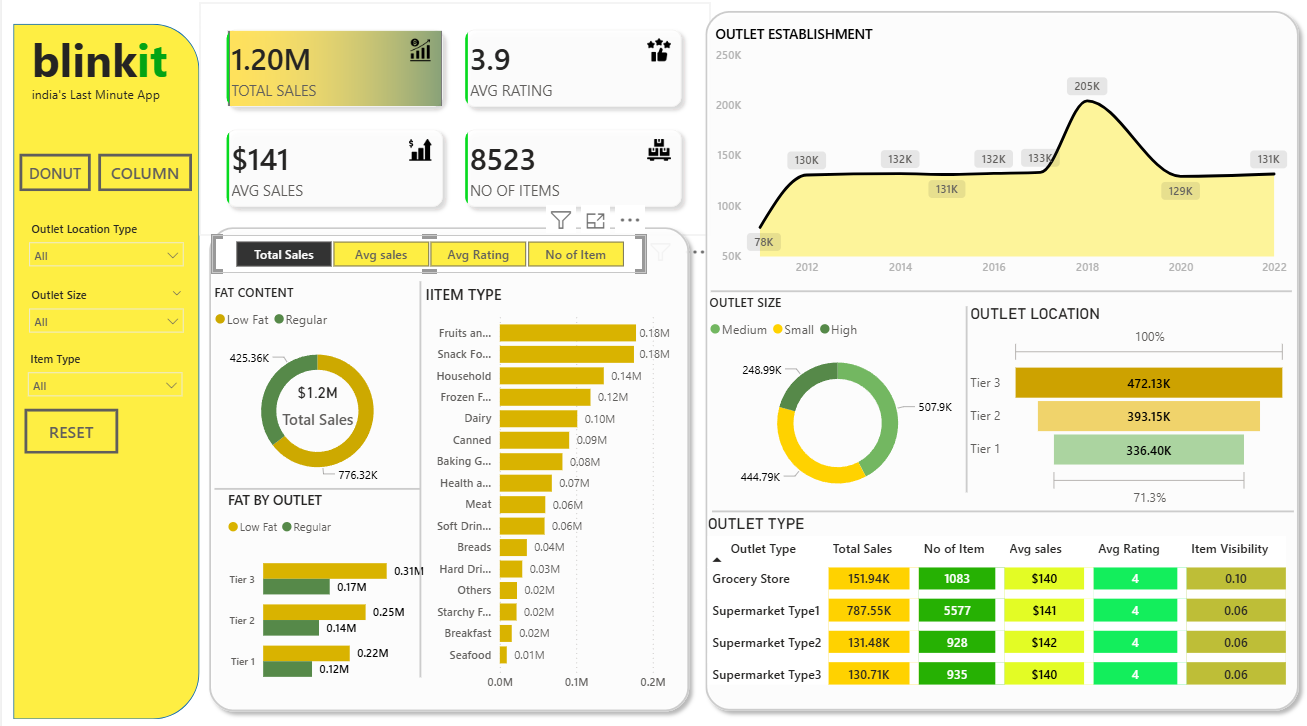

This screenshot's page, from the dashboard's own definition file:
{"tool":"powerbi","page":{"name":"Page 1","canvas":[1400,800],"ordinal":0},"visuals":[{"type":"shape","box":[12,36,199.6,745.9],"z":0},{"type":"textbox","box":[27,36,171.1,81],"z":1000},{"type":"textbox","box":[27,97.6,154.6,40.5],"z":2000},{"type":"cardVisual","fields":{"Data":["BlinkIT Grocery Data.Total Sales","BlinkIT Grocery Data.Avg Rating","BlinkIT Grocery Data.Avg sales","BlinkIT Grocery Data.No of Item"]},"box":[211.6,13.5,547.8,249.1],"z":3000},{"type":"shape","box":[213.1,244.6,532.8,537.3],"z":4000},{"type":"donutChart","title":" FAT CONTENT","fields":{"Y":["BlinkIT Grocery Data.Total Sales"],"Category":["BlinkIT Grocery Data.Item Fat Content"]},"box":[228.1,315.2,220.6,220.6],"z":5000},{"type":"slicer","fields":{"Values":["Metrics.Metrics"]},"box":[225.1,262.7,465.3,40.5],"z":6000},{"type":"card","fields":{"Values":["BlinkIT Grocery Data.Total Sales"]},"box":[292.7,411.2,93.1,63],"z":7000},{"type":"clusteredBarChart","title":"FAT BY OUTLET","fields":{"Y":["BlinkIT Grocery Data.Total Sales"],"Category":["BlinkIT Grocery Data.Outlet Location Type"],"Series":["BlinkIT Grocery Data.Item Fat Content"]},"box":[237.1,535.8,220.6,225.1],"z":8000},{"type":"shape","box":[228.1,514.8,220.6,40.5],"z":9000},{"type":"shape","box":[439.8,312.2,18,424.7],"z":10000},{"type":"barChart","title":"IITEM TYPE","fields":{"Y":["BlinkIT Grocery Data.Total Sales"],"Category":["BlinkIT Grocery Data.Item Type"]},"box":[448.8,315.2,286.7,445.8],"z":11000},{"type":"shape","box":[745.9,13.5,654.4,768.4],"z":12000},{"type":"lineChart","title":"OUTLET ESTABLISHMENT ","fields":{"Category":["BlinkIT Grocery Data.Outlet Establishment Year"],"Y":["BlinkIT Grocery Data.Total Sales"]},"box":[760.1,36.2,623.3,278.8],"z":13000},{"type":"shape","box":[760.1,303,623.3,40.2],"z":14000},{"type":"shape","box":[1025.1,339.2,18,199.6],"z":16000},{"type":"funnel","title":"OUTLET LOCATION","fields":{"Category":["BlinkIT Grocery Data.Outlet Location Type"],"Y":["Sum(BlinkIT Grocery Data.Sales)"]},"box":[1034.1,336.2,349.7,222.1],"z":17000},{"type":"shape","box":[760.9,538.8,624.4,40.5],"z":18000},{"type":"pivotTable","title":"OUTLET TYPE","fields":{"Values":["BlinkIT Grocery Data.Total Sales","BlinkIT Grocery Data.No of Item","BlinkIT Grocery Data.Avg sales","BlinkIT Grocery Data.Avg Rating","Avg(BlinkIT Grocery Data.Item Visibility)"],"Rows":["BlinkIT Grocery Data.Outlet Type"]},"box":[751.9,561.3,642.4,199.6],"z":19000},{"type":"slicer","fields":{"Values":["BlinkIT Grocery Data.Outlet Location Type"]},"box":[18.8,242.6,186.3,60.3],"z":20000},{"type":"slicer","fields":{"Values":["BlinkIT Grocery Data.Outlet Size"]},"box":[18.8,313.7,186.3,60.3],"z":21000},{"type":"slicer","fields":{"Values":["BlinkIT Grocery Data.Item Type"]},"box":[17.4,382,186.3,60.3],"z":22000},{"type":"columnChart","title":"OUTLET SIZE","fields":{"Category":["BlinkIT Grocery Data.Outlet Size"],"Y":["BlinkIT Grocery Data.Total Sales"]},"box":[759.3,336.3,273.9,225.2],"z":23000},{"type":"actionButton","title":"RESET","box":[24.1,449.1,100.5,48.3],"z":24000},{"type":"actionButton","box":[18.8,175.6,76.4,40.2],"z":25000},{"type":"actionButton","box":[103.2,175.6,100.5,40.2],"z":26000}]}

Visuals, with their boxes in screenshot pixels (x1, y1, x2, y2), scaled from the page's 1400x800 canvas onto the 1307x726 screenshot:
shape: bbox=(11, 33, 198, 710)
textbox: bbox=(25, 33, 185, 106)
textbox: bbox=(25, 89, 170, 125)
cardVisual - BlinkIT Grocery Data.Total Sales x BlinkIT Grocery Data.Avg Rating: bbox=(198, 12, 709, 238)
shape: bbox=(199, 222, 696, 710)
" FAT CONTENT" donutChart: bbox=(213, 286, 419, 486)
slicer - Metrics.Metrics: bbox=(210, 238, 645, 275)
card - BlinkIT Grocery Data.Total Sales: bbox=(273, 373, 360, 430)
"FAT BY OUTLET" clusteredBarChart: bbox=(221, 486, 427, 691)
shape: bbox=(213, 467, 419, 504)
shape: bbox=(411, 283, 427, 669)
"IITEM TYPE" barChart: bbox=(419, 286, 687, 691)
shape: bbox=(696, 12, 1306, 710)
"OUTLET ESTABLISHMENT " lineChart: bbox=(710, 33, 1292, 286)
shape: bbox=(710, 275, 1292, 311)
shape: bbox=(957, 308, 974, 489)
"OUTLET LOCATION" funnel: bbox=(965, 305, 1292, 507)
shape: bbox=(710, 489, 1293, 526)
"OUTLET TYPE" pivotTable: bbox=(702, 509, 1302, 691)
slicer - BlinkIT Grocery Data.Outlet Location Type: bbox=(18, 220, 191, 275)
slicer - BlinkIT Grocery Data.Outlet Size: bbox=(18, 285, 191, 339)
slicer - BlinkIT Grocery Data.Item Type: bbox=(16, 347, 190, 401)
"OUTLET SIZE" columnChart: bbox=(709, 305, 965, 510)
"RESET" actionButton: bbox=(22, 408, 116, 451)
actionButton: bbox=(18, 159, 89, 196)
actionButton: bbox=(96, 159, 190, 196)
